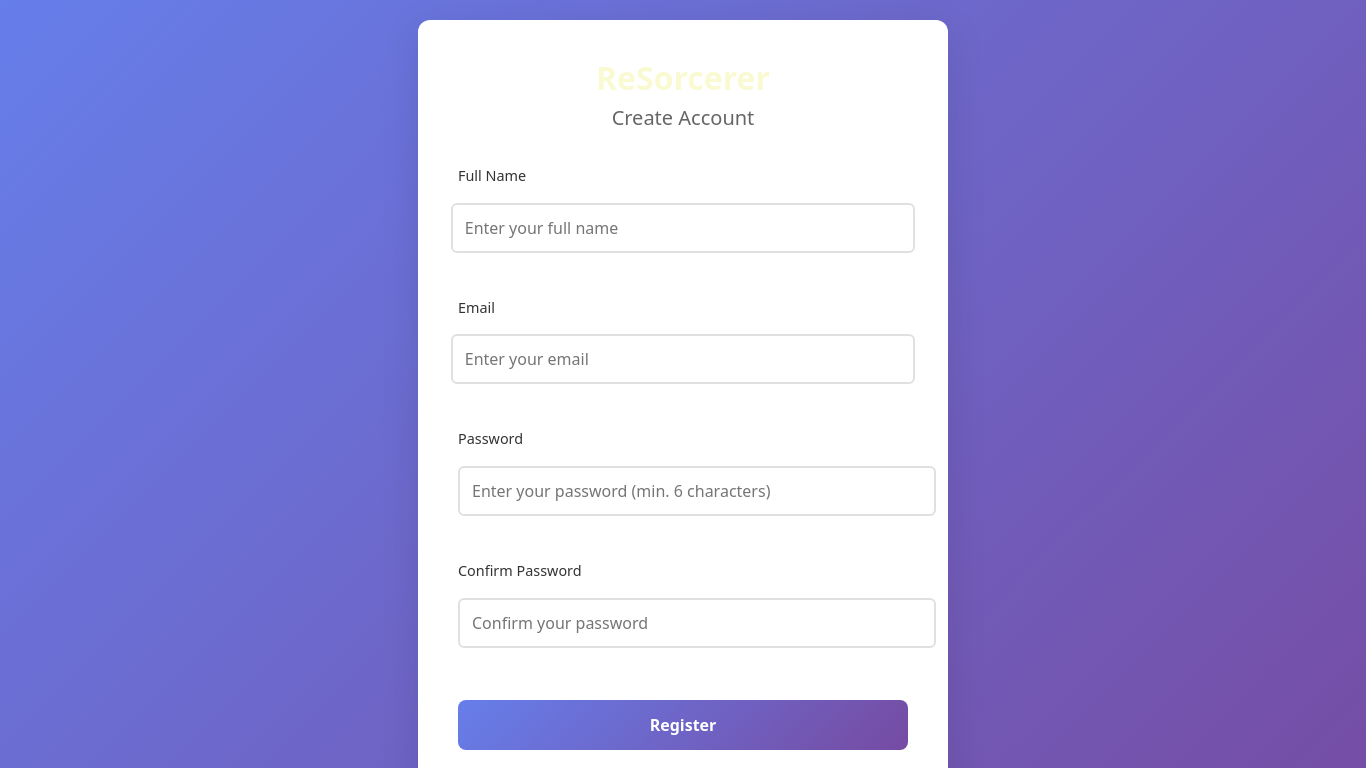
shows error on password mismatch
# 🔑 REQUIRED fields must be filled, otherwise submit never runs
In the field labelled "Full Name": (683, 228) x1=451 y1=203 x2=915 y2=253, type "Test User"
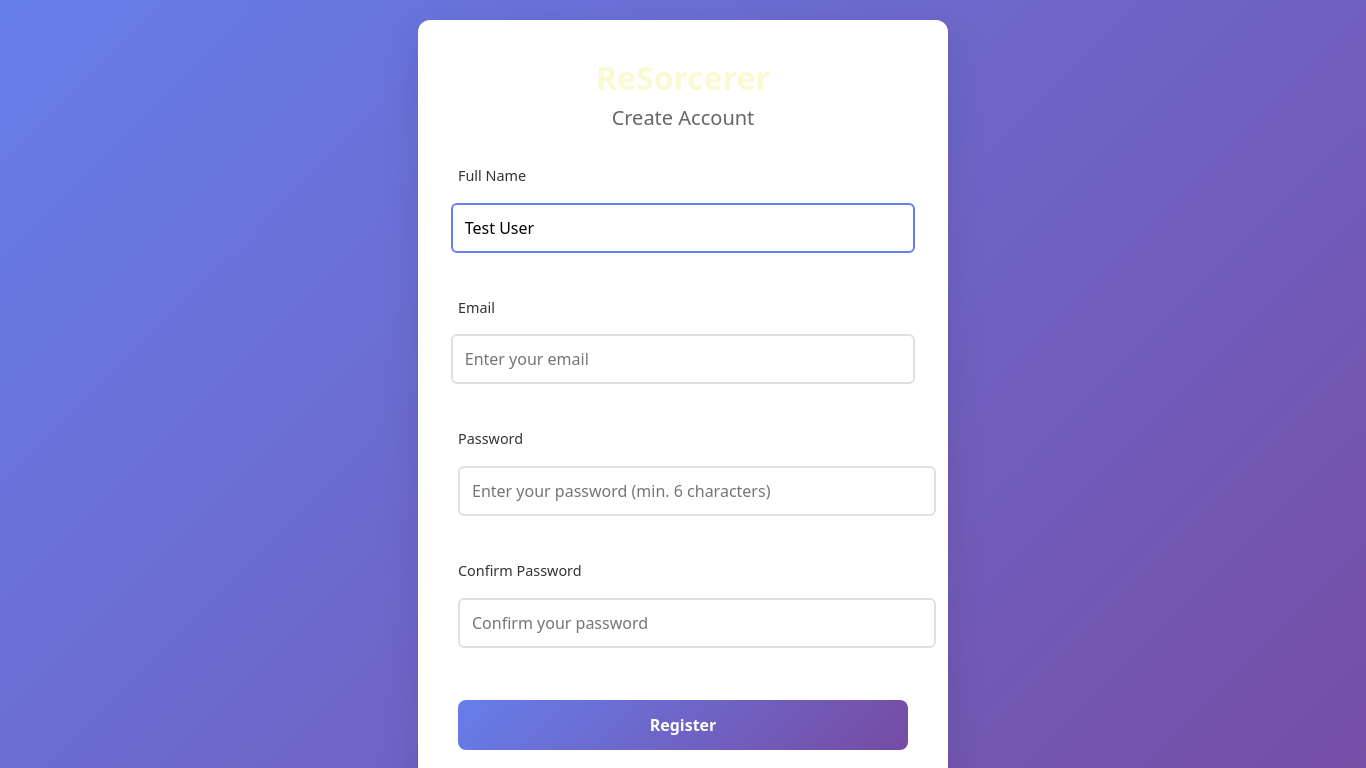
In the field labelled "Email": (683, 359) x1=451 y1=334 x2=915 y2=384, type "test@test.com"
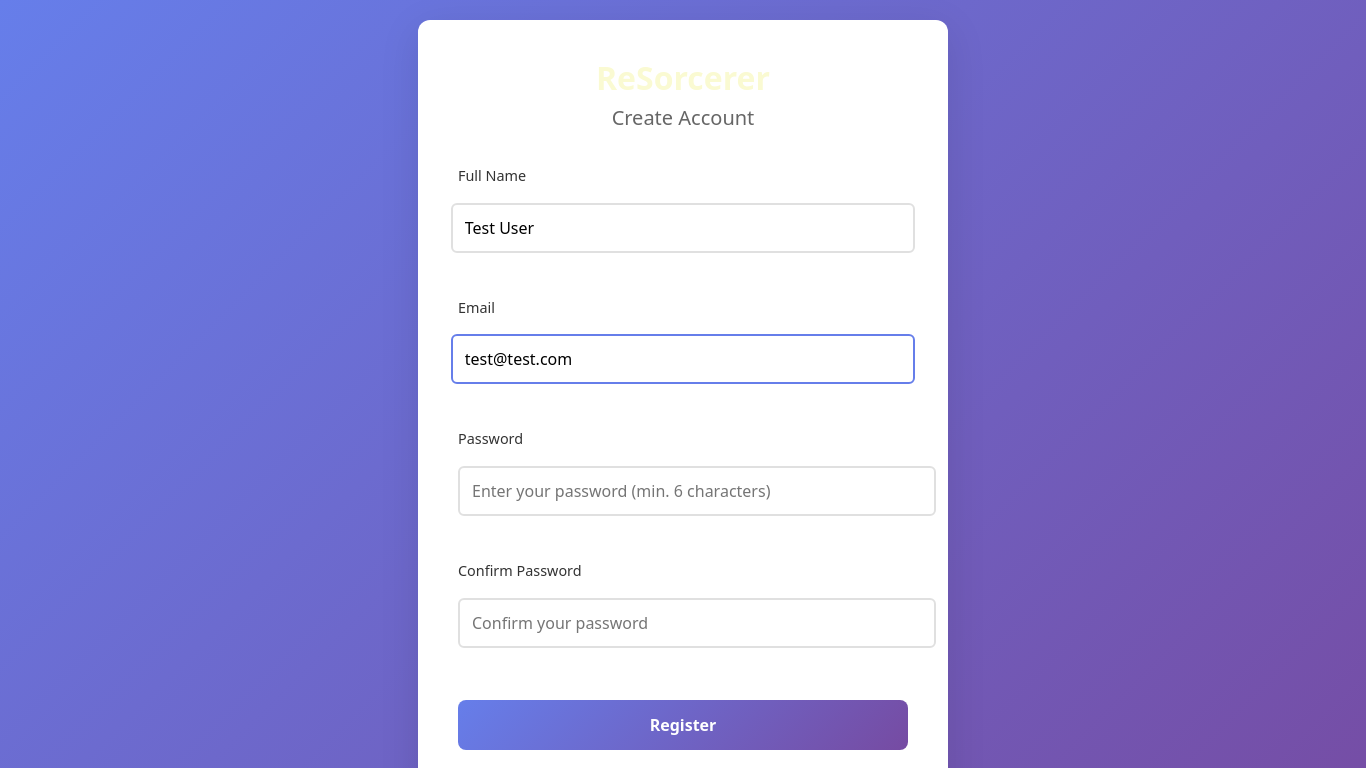
In the password field labelled "Password": (697, 491) x1=458 y1=466 x2=936 y2=516, type "123456"
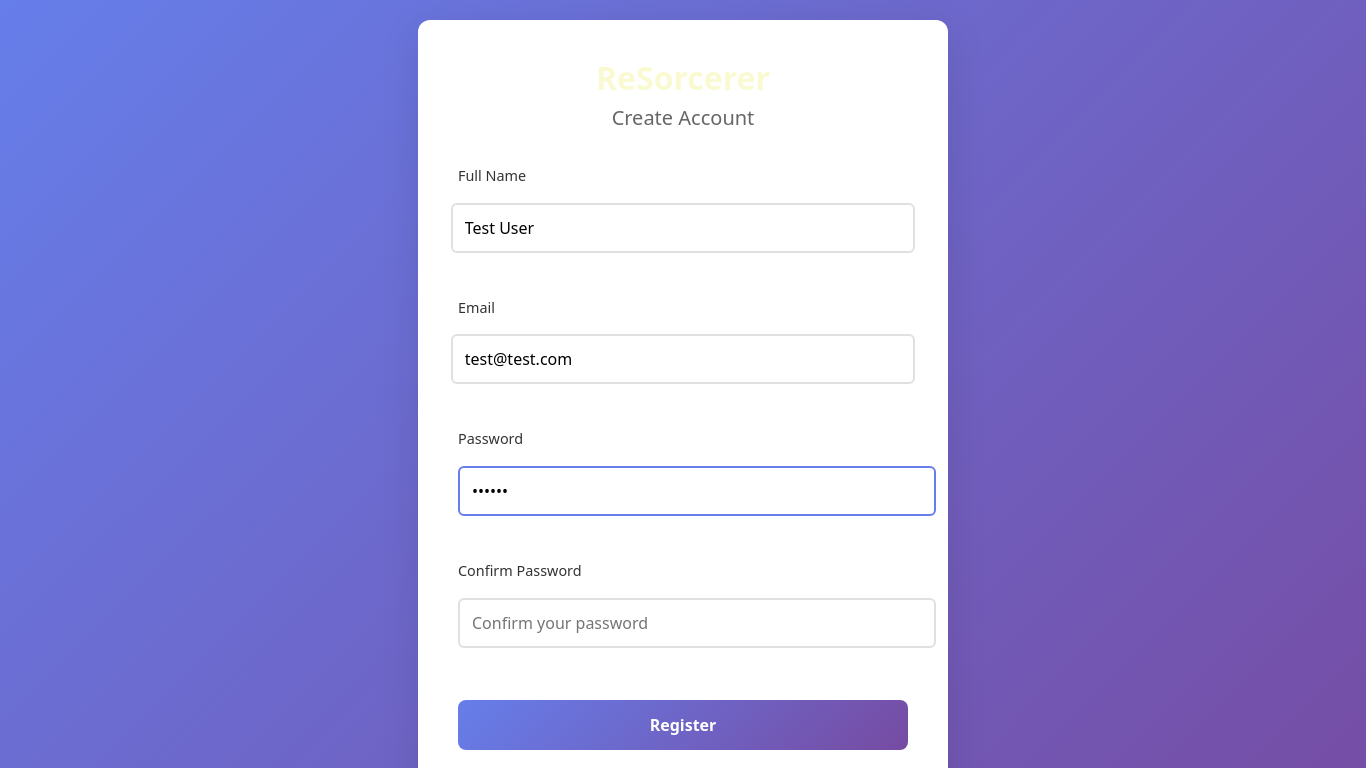
In the password field labelled "Confirm Password": (697, 623) x1=458 y1=598 x2=936 y2=648, type "abcdef"
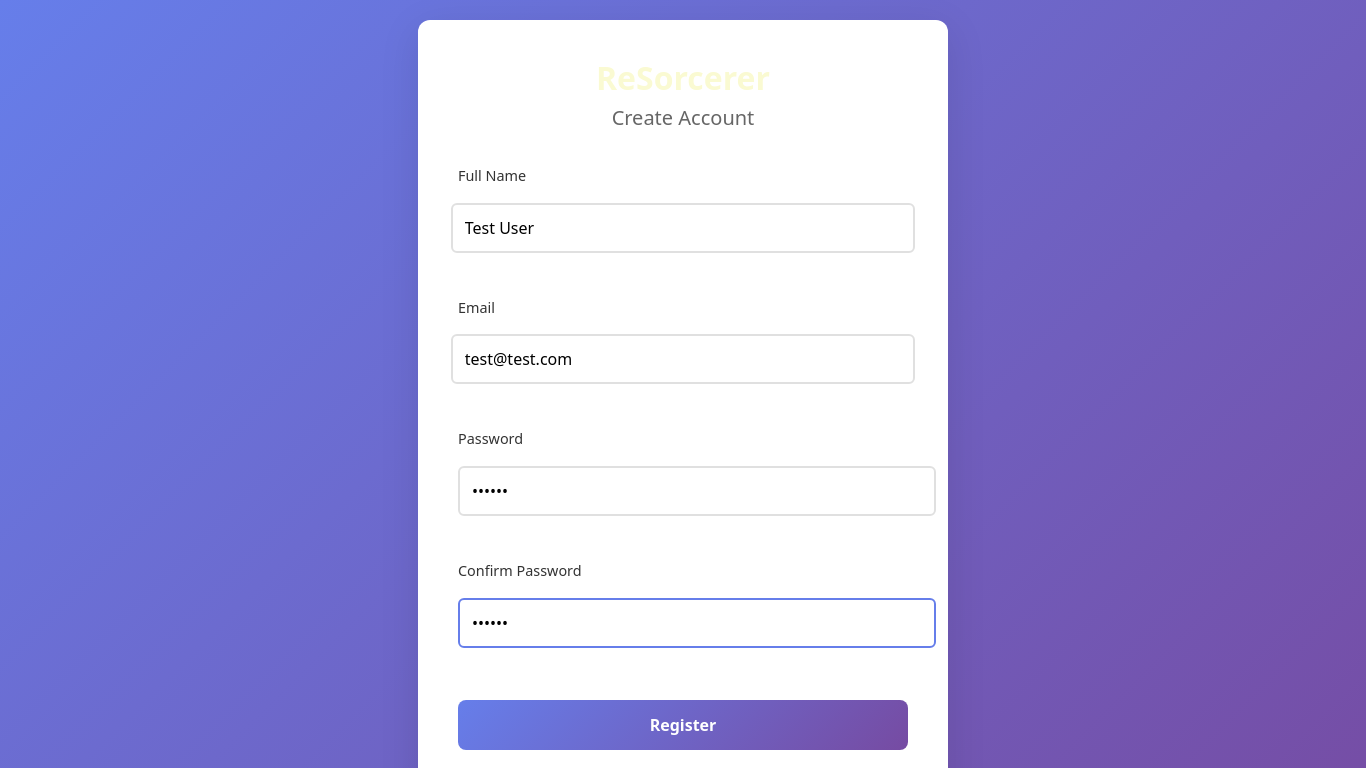
Click the button "Register": (683, 725) x1=458 y1=700 x2=908 y2=750
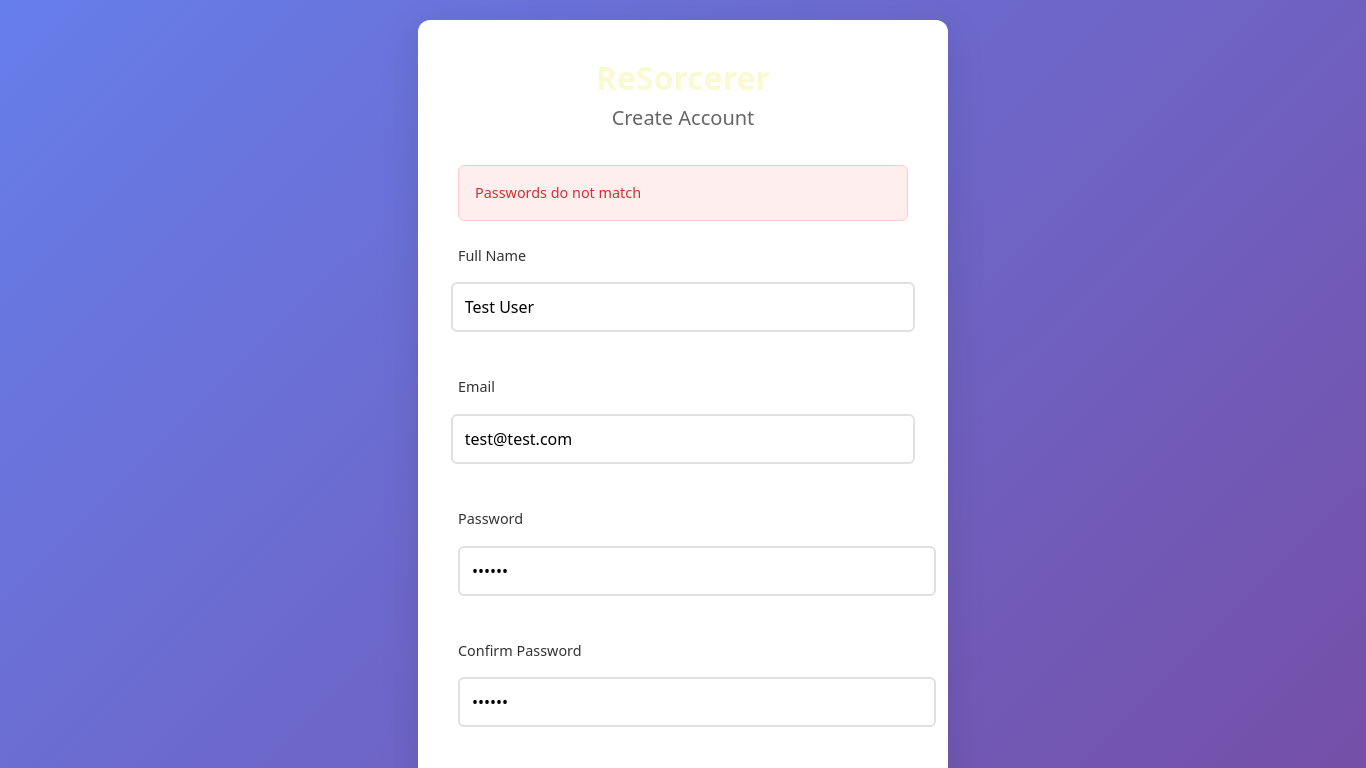
Result: the message reads "Passwords do not match" at x1=475 y1=183 x2=641 y2=202
